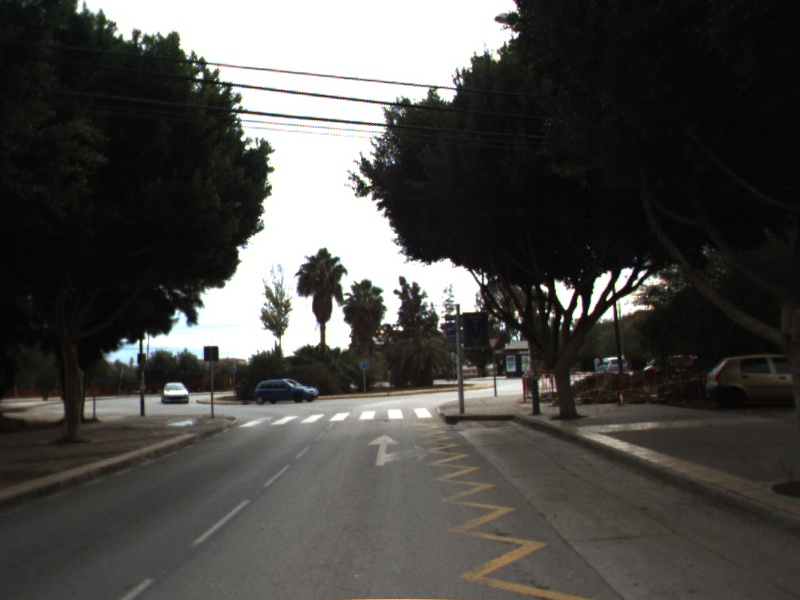STRAIGHT_RIGHT: (365, 432, 433, 468)
